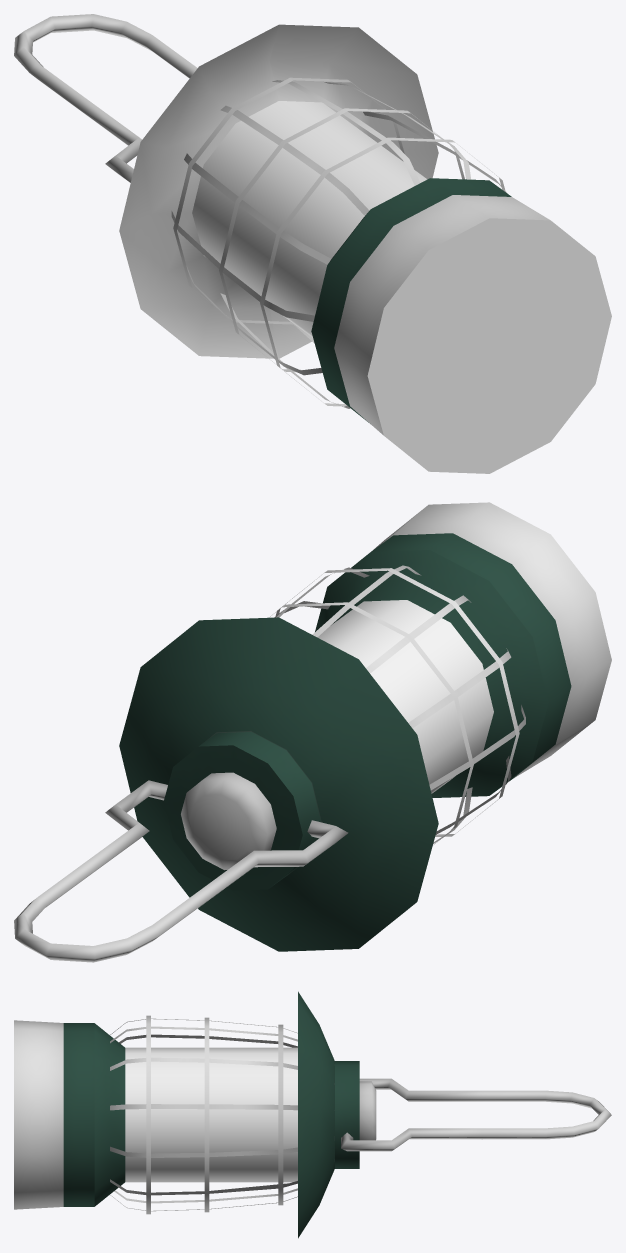
File: Lanthanum.fbx
3 views of the same model, one above another, from view 1: azimuth 30°, elevation 25°; view 2: azimuth 150°, elevation 25°; view 3: azimuth 270°, elevation 25° (orthographic). The views are drawn at different scales.
Visible parts, largest first — view 1: Lanthanum, Lanthanum_Lightsource, Lanthanum_Handle; view 2: Lanthanum, Lanthanum_Lightsource, Lanthanum_Handle; view 3: Lanthanum, Lanthanum_Lightsource, Lanthanum_Handle.
Boxes of the visible parts, <box> form: Lanthanum: <box>119,24,611,473</box>; Lanthanum_Lightsource: <box>192,101,427,337</box>; Lanthanum_Handle: <box>14,14,197,182</box>; Lanthanum: <box>119,502,611,951</box>; Lanthanum_Lightsource: <box>317,600,493,793</box>; Lanthanum_Handle: <box>14,780,348,962</box>; Lanthanum: <box>14,991,376,1238</box>; Lanthanum_Lightsource: <box>125,1047,297,1182</box>; Lanthanum_Handle: <box>341,1078,611,1151</box>.
Bounding box in the file's own units: 0.202 × 0.202 × 0.486.
